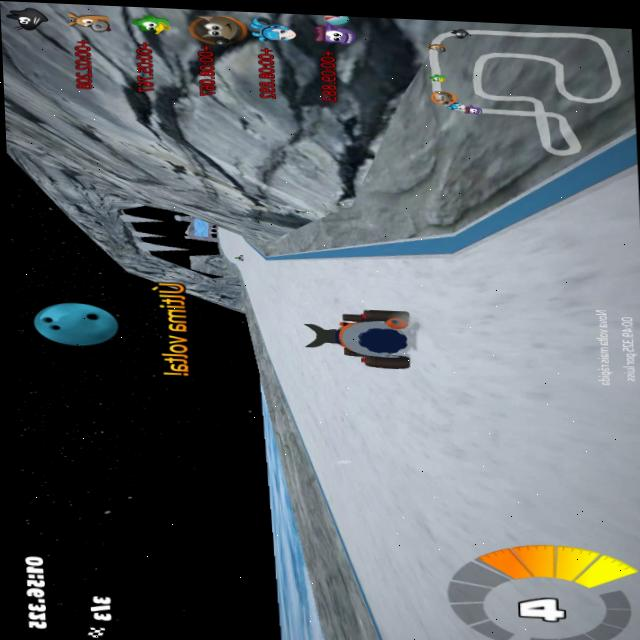enemy_kart: (231, 253, 246, 263)
player_kart: (308, 303, 417, 371)
track: (414, 254, 640, 640), (311, 370, 423, 513), (363, 512, 435, 640), (482, 225, 640, 266), (293, 259, 415, 306), (254, 255, 295, 327), (548, 207, 640, 233), (261, 327, 309, 370), (285, 372, 315, 437), (331, 515, 361, 556), (234, 267, 259, 302), (227, 240, 252, 253), (215, 230, 230, 250), (232, 232, 246, 241)
